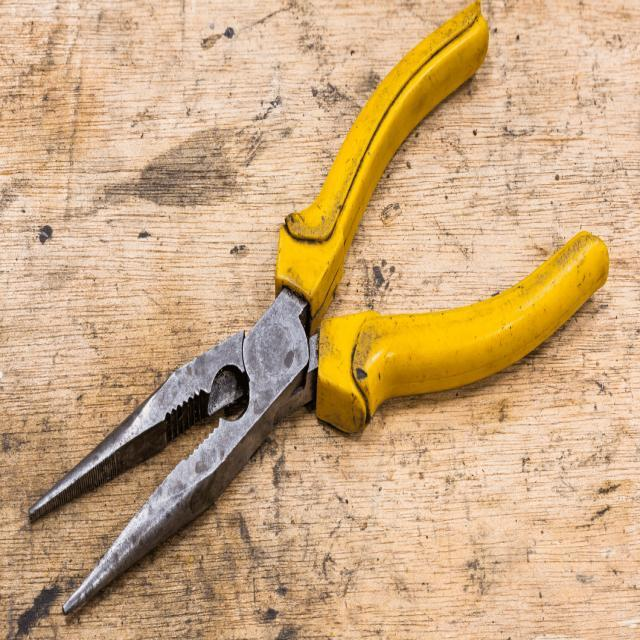pliers: (22, 0, 612, 624)
